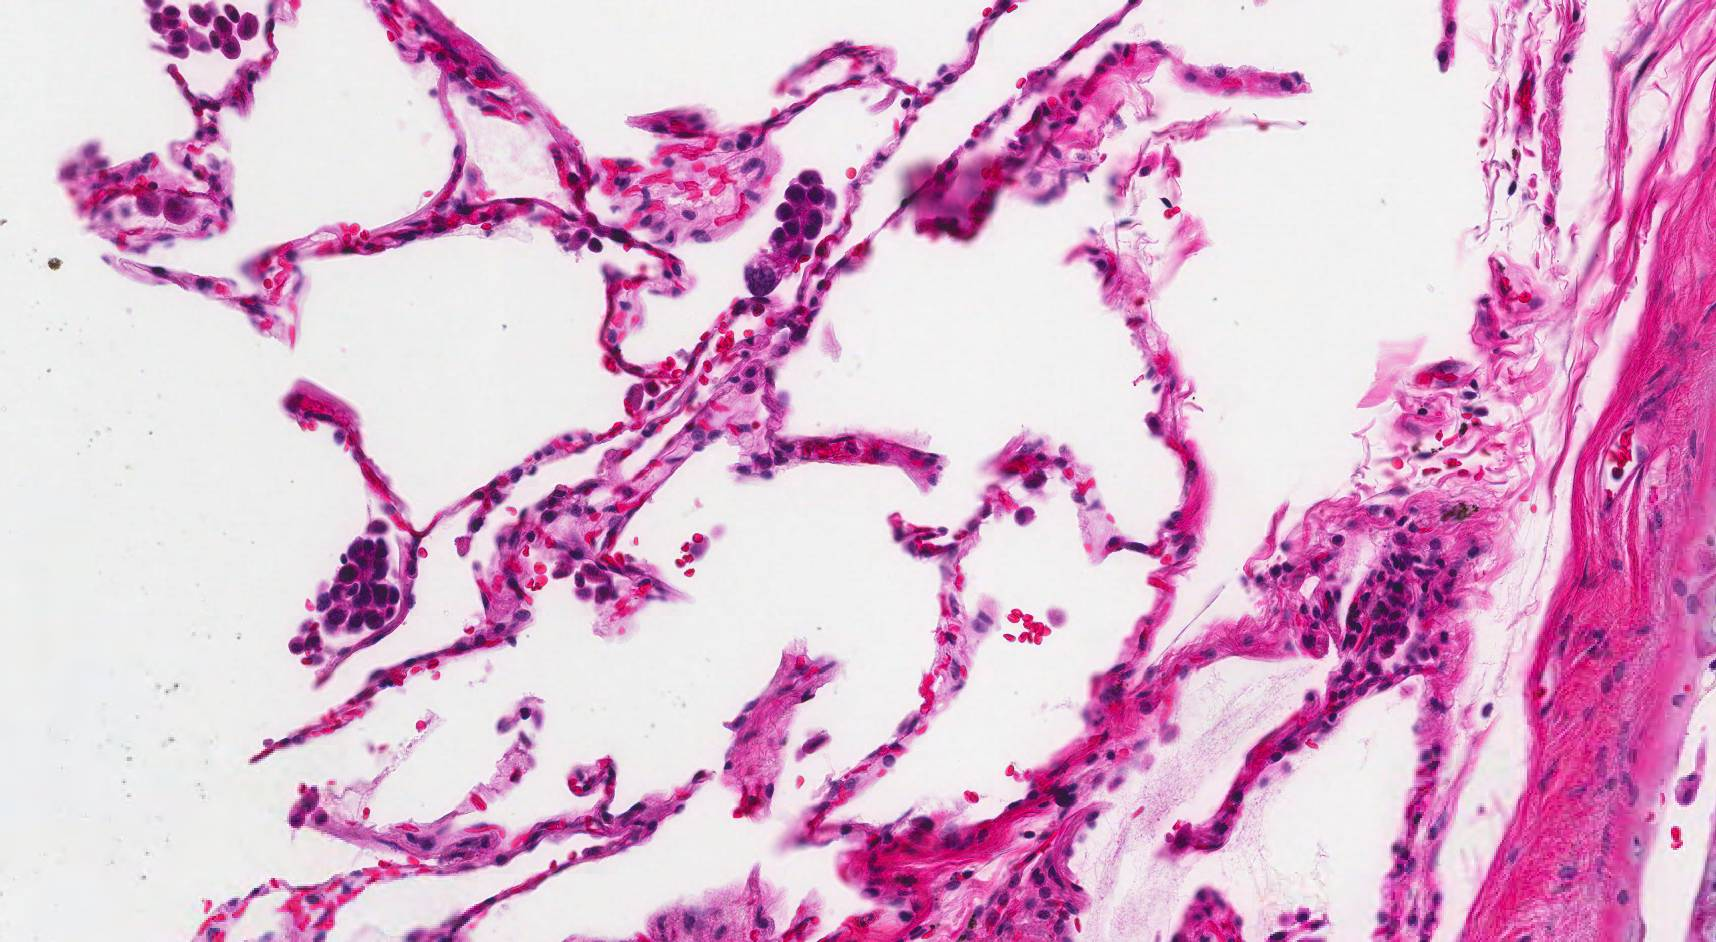stas: (745, 168, 836, 295), (313, 520, 402, 638)
